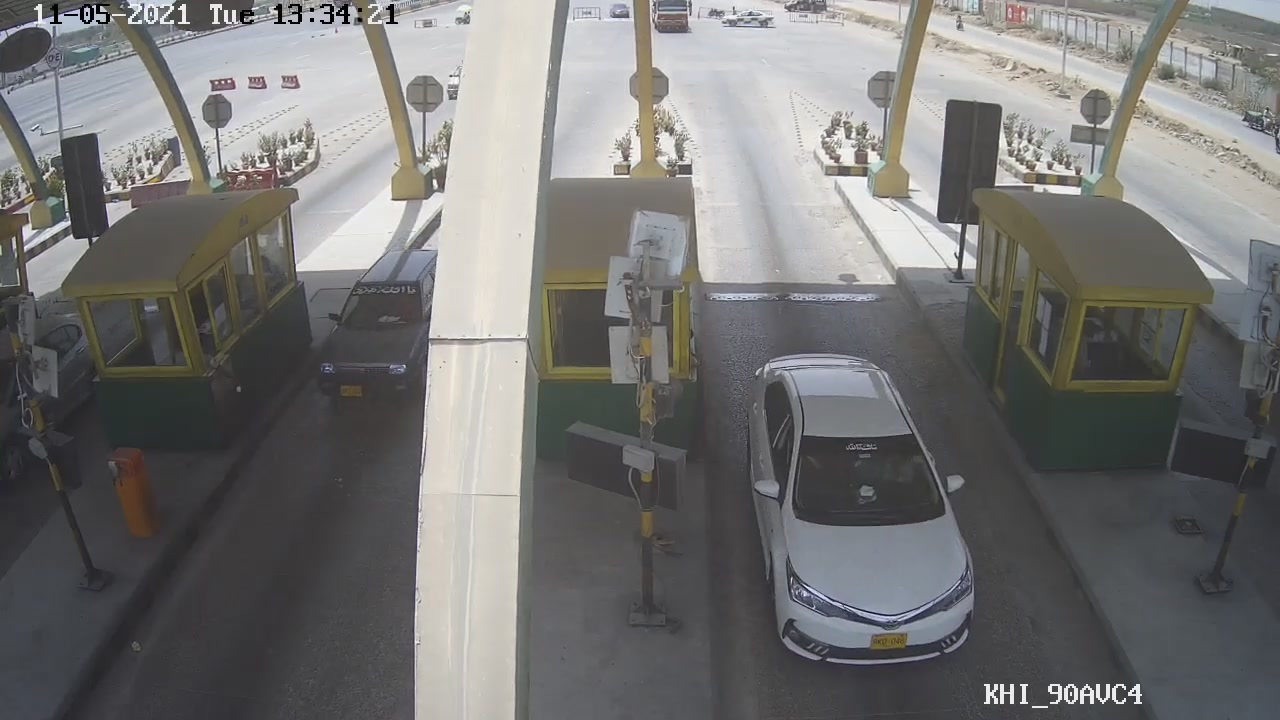F1: (738, 345, 985, 676)
